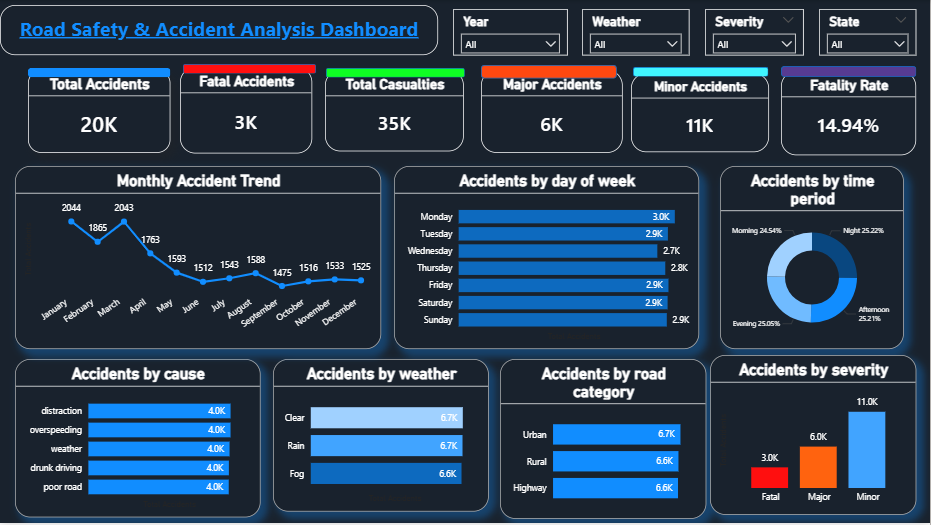

The page's visual inventory and layout, read from the dashboard file:
{"tool":"powerbi","page":{"name":"Page 1","canvas":[1280,720],"ordinal":0},"visuals":[{"type":"cardVisual","title":"Major Accidents","fields":{"Data":["Accidents_Fact.Serious Accidents"]},"box":[662.2,95.6,194.9,114.2],"z":0,"group":"g4"},{"type":"cardVisual","title":"Total Casualties","fields":{"Data":["Accidents_Fact.Total Casualties"]},"box":[446.8,97.4,191,112.3],"z":0,"group":"g3"},{"type":"cardVisual","title":"Fatality Rate","fields":{"Data":["Accidents_Fact.Fatality Rate"]},"box":[1075.1,97.4,186.5,115.9],"z":0},{"type":"shape","box":[661.8,89,186.9,18.5],"z":1000,"group":"g4"},{"type":"cardVisual","title":"Minor Accidents","fields":{"Data":["Accidents_Fact.Minor Accidents"]},"box":[868.5,100.8,189.8,109.2],"z":1000},{"type":"shape","box":[870.4,92.3,186.5,13.4],"z":2000,"group":"g4"},{"type":"donutChart","title":"Accidents by time period","fields":{"Category":["Accidents_Fact.time_period"],"Y":["Accidents_Fact.Total Accidents"]},"box":[991,228.5,253.2,251.9],"z":2000},{"type":"slicer","fields":{"Values":["Accidents_Fact.weather"]},"box":[801.3,11.8,147.8,63.8],"z":3000},{"type":"slicer","fields":{"Values":["Accidents_Fact.Year"]},"box":[623.2,11.8,157.9,63.8],"z":4000},{"type":"slicer","fields":{"Values":["Accidents_Fact.accident_severity"]},"box":[970.9,11.8,136.1,63.8],"z":5000},{"type":"slicer","fields":{"Values":["Accidents_Fact.state"]},"box":[1127.1,11.8,134.4,63.8],"z":6000},{"type":"clusteredBarChart","title":"Accidents by day of week","fields":{"Y":["Accidents_Fact.Total Accidents"],"Category":["Accidents_Fact.day_of_week"]},"box":[542.3,228.5,419.8,251.9],"z":7000},{"type":"clusteredBarChart","title":"Accidents by cause","fields":{"Y":["Accidents_Fact.Total Accidents"],"Category":["Accidents_Fact.cause"]},"box":[20.2,493.9,337.6,218.4],"z":8000},{"type":"clusteredBarChart","title":"Accidents by weather","fields":{"Y":["Accidents_Fact.Total Accidents"],"Category":["Accidents_Fact.weather"]},"box":[376.3,493.9,297.3,210],"z":9000},{"type":"clusteredBarChart","title":"Accidents by road category","fields":{"Y":["Accidents_Fact.Total Accidents"],"Category":["Accidents_Fact.road_type"]},"box":[688.7,493.9,283.9,220.1],"z":10000},{"type":"columnChart","title":"Accidents by severity","fields":{"Category":["Accidents_Fact.accident_severity"],"Y":["Accidents_Fact.Total Accidents"]},"box":[977.6,488.8,283.9,220.1],"z":11000},{"type":"lineChart","title":"Monthly Accident Trend","fields":{"Y":["Accidents_Fact.Total Accidents"],"Category":["Accidents_Fact.Month Name"]},"box":[20.6,228.5,503.7,251.9],"z":12000},{"type":"textbox","box":[0,6.7,603,68.9],"z":13000},{"type":"group","id":"g1","title":"Group 1","box":[38.6,94.1,196.5,117.6],"z":14000},{"type":"group","id":"g2","title":"Group 2","box":[247.3,88.4,187.8,123.5],"z":15000},{"type":"cardVisual","title":"Fatal Accidents","fields":{"Data":["Accidents_Fact.Fatal Accidents"]},"box":[247.3,93,181.9,118.9],"z":16000,"group":"g2"},{"type":"group","id":"g3","title":"Group 3","box":[446.8,94.1,193.2,115.9],"z":16000},{"type":"group","id":"g4","title":"Group 4","box":[661.8,89,395,120.8],"z":17000},{"type":"cardVisual","title":"Total Accidents","fields":{"Data":["Accidents_Fact.Total Accidents"]},"box":[38.6,97.4,195.9,114.3],"z":17000,"group":"g1"},{"type":"shape","box":[1075.1,90.7,186.5,15.1],"z":18000},{"type":"shape","box":[39.2,94.1,195.9,12.9],"z":18000,"group":"g1"},{"type":"shape","box":[252,88.4,183.1,13.4],"z":18002,"group":"g2"},{"type":"shape","box":[448.4,94.1,191,13.2],"z":18004,"group":"g3"}]}

Visuals, with their boxes in screenshot pixels (x1, y1, x2, y2), scaled from the page's 1280x720 canvas onto the 931x525 screenshot:
"Major Accidents" cardVisual: {"left": 482, "top": 70, "right": 623, "bottom": 153}
"Total Casualties" cardVisual: {"left": 325, "top": 71, "right": 464, "bottom": 153}
"Fatality Rate" cardVisual: {"left": 782, "top": 71, "right": 918, "bottom": 156}
shape: {"left": 481, "top": 65, "right": 617, "bottom": 78}
"Minor Accidents" cardVisual: {"left": 632, "top": 74, "right": 770, "bottom": 153}
shape: {"left": 633, "top": 67, "right": 769, "bottom": 77}
"Accidents by time period" donutChart: {"left": 721, "top": 167, "right": 905, "bottom": 350}
slicer - Accidents_Fact.weather: {"left": 583, "top": 9, "right": 690, "bottom": 55}
slicer - Accidents_Fact.Year: {"left": 453, "top": 9, "right": 568, "bottom": 55}
slicer - Accidents_Fact.accident_severity: {"left": 706, "top": 9, "right": 805, "bottom": 55}
slicer - Accidents_Fact.state: {"left": 820, "top": 9, "right": 918, "bottom": 55}
"Accidents by day of week" clusteredBarChart: {"left": 394, "top": 167, "right": 700, "bottom": 350}
"Accidents by cause" clusteredBarChart: {"left": 15, "top": 360, "right": 260, "bottom": 519}
"Accidents by weather" clusteredBarChart: {"left": 274, "top": 360, "right": 490, "bottom": 513}
"Accidents by road category" clusteredBarChart: {"left": 501, "top": 360, "right": 707, "bottom": 521}
"Accidents by severity" columnChart: {"left": 711, "top": 356, "right": 918, "bottom": 517}
"Monthly Accident Trend" lineChart: {"left": 15, "top": 167, "right": 381, "bottom": 350}
textbox: {"left": 0, "top": 5, "right": 439, "bottom": 55}
"Group 1" group: {"left": 28, "top": 69, "right": 171, "bottom": 154}
"Group 2" group: {"left": 180, "top": 64, "right": 316, "bottom": 155}
"Fatal Accidents" cardVisual: {"left": 180, "top": 68, "right": 312, "bottom": 155}
"Group 3" group: {"left": 325, "top": 69, "right": 466, "bottom": 153}
"Group 4" group: {"left": 481, "top": 65, "right": 769, "bottom": 153}
"Total Accidents" cardVisual: {"left": 28, "top": 71, "right": 171, "bottom": 154}
shape: {"left": 782, "top": 66, "right": 918, "bottom": 77}
shape: {"left": 29, "top": 69, "right": 171, "bottom": 78}
shape: {"left": 183, "top": 64, "right": 316, "bottom": 74}
shape: {"left": 326, "top": 69, "right": 465, "bottom": 78}
